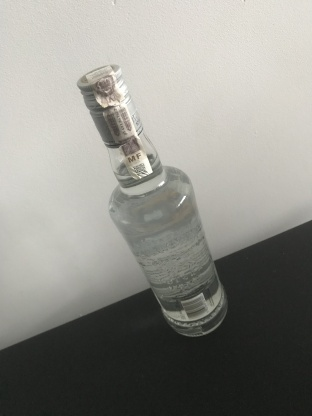nakretka: (75, 62, 143, 149)
